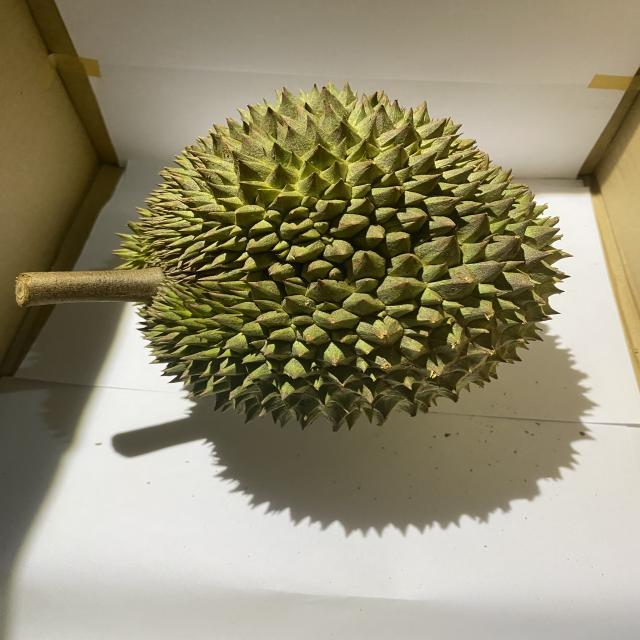immature: (112, 81, 574, 433)
